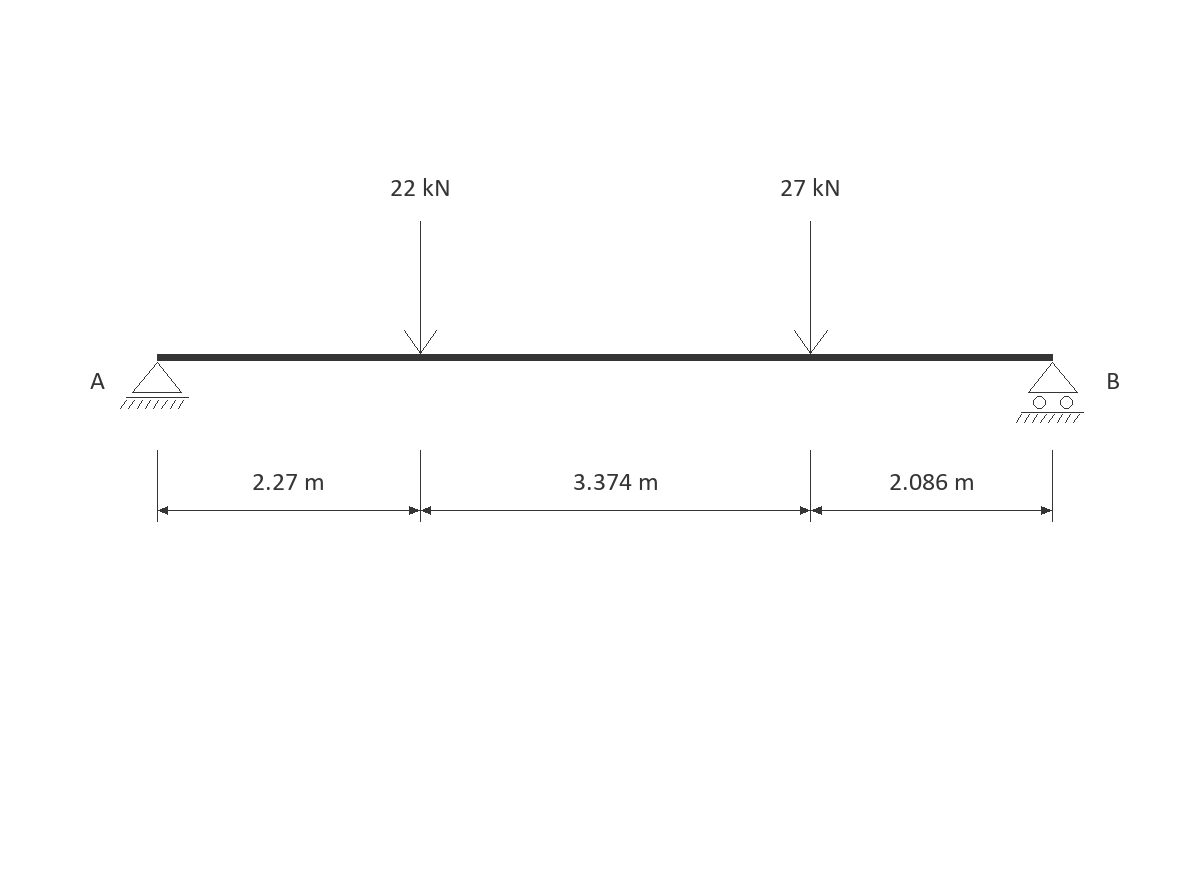pin_support: (120, 362, 189, 409)
point_load: (794, 221, 828, 354), (404, 221, 437, 354)
roller_support: (1016, 362, 1084, 423)
